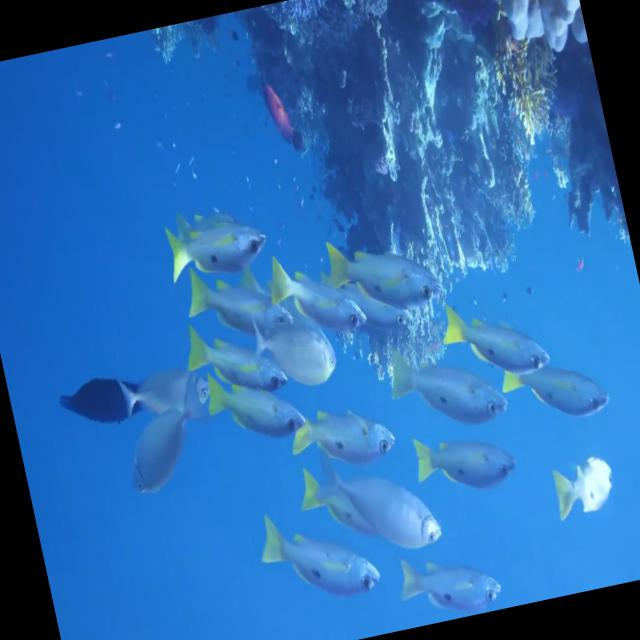fish: (308, 423, 452, 572), (244, 487, 388, 623), (383, 327, 515, 446), (175, 250, 309, 362), (320, 209, 442, 323), (436, 285, 552, 391), (494, 340, 616, 440), (153, 197, 281, 290), (110, 409, 205, 526), (263, 249, 367, 355), (107, 343, 217, 442), (199, 361, 308, 458), (398, 425, 522, 508), (283, 404, 399, 484), (247, 312, 344, 406), (538, 441, 628, 535), (394, 555, 502, 629), (340, 268, 412, 347), (258, 75, 304, 158)
